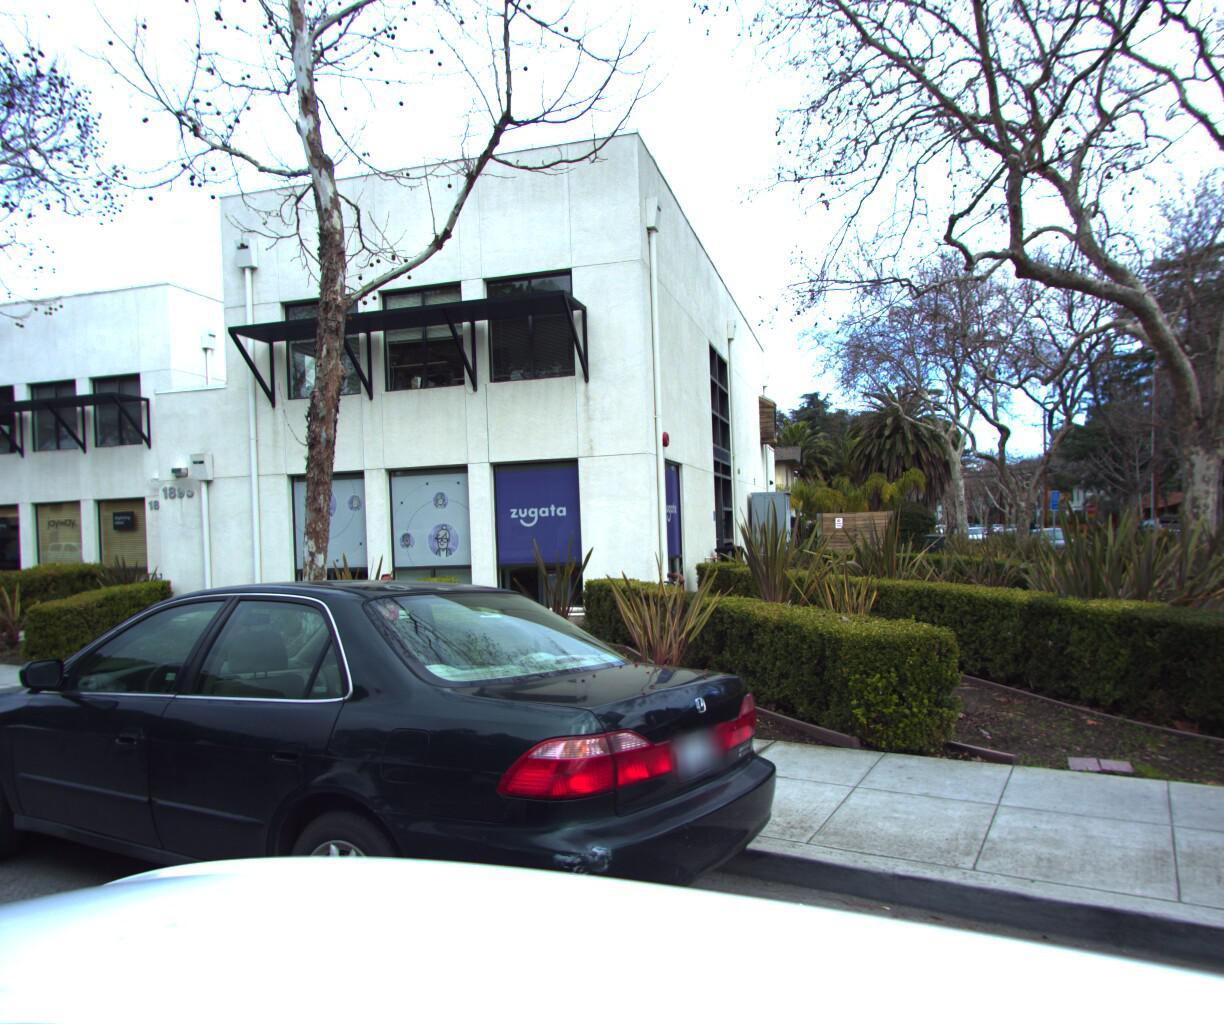car: (0, 565, 840, 1024), (0, 522, 8, 806)
